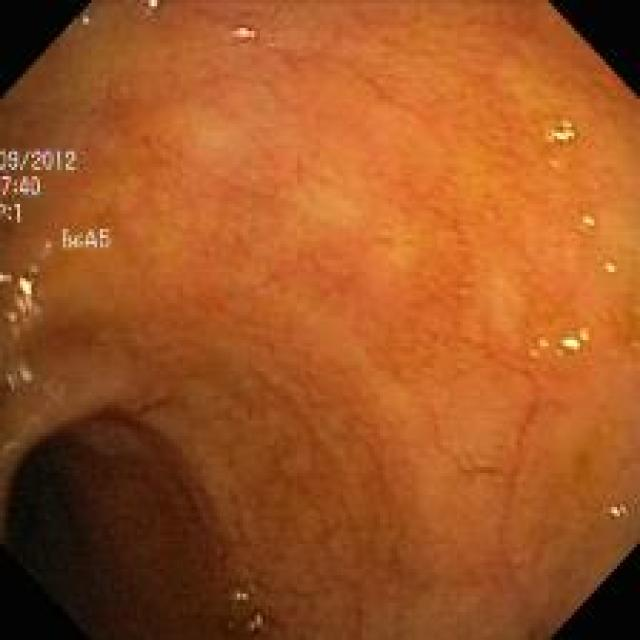ulcerative-colitis-grade-0-1: (110, 17, 621, 518)
